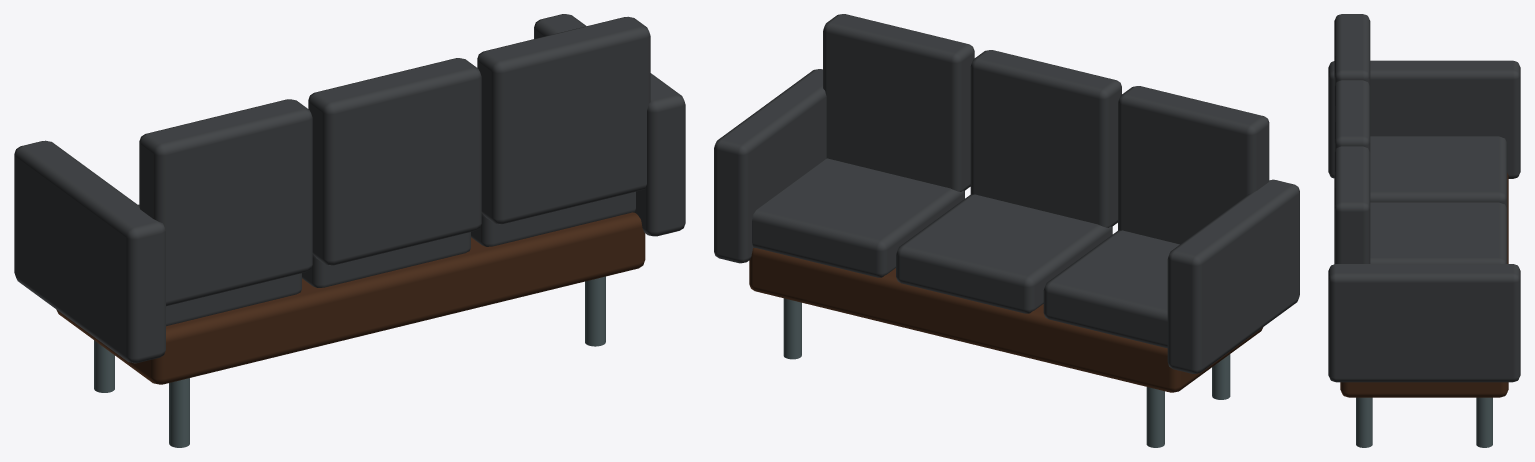
The model's file is VinylSofa.obj.
The picture shows the model from 3 angles, left to right: view 1: azimuth 30°, elevation 25°; view 2: azimuth 150°, elevation 25°; view 3: azimuth 270°, elevation 25°; orthographic projection. The views are drawn at different scales.
Parts seen in each view (by area): view 1: VinylSofa; view 2: VinylSofa; view 3: VinylSofa.
Boxes of the visible parts, x1,y1,x2,y2 form: VinylSofa: [14, 14, 685, 447]; VinylSofa: [714, 14, 1299, 447]; VinylSofa: [1328, 14, 1520, 447].
Bounding box in the file's own units: 2.15 × 1.17 × 0.8.
